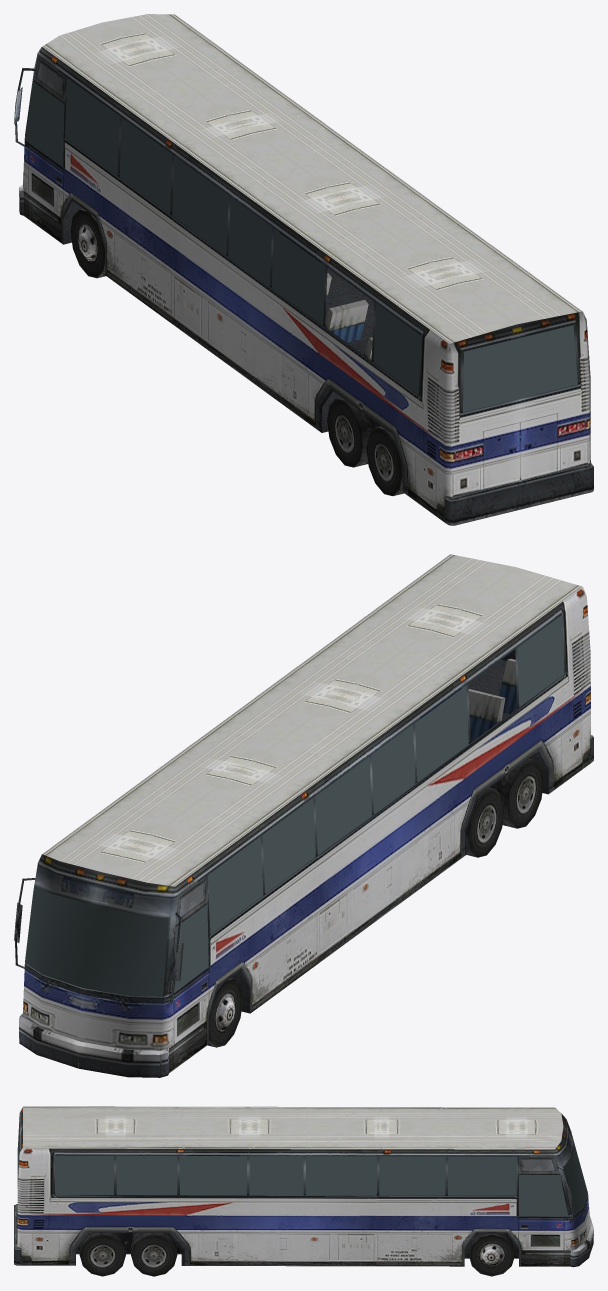
Rendered from p54_32_bus_coach_white.glb.
The picture shows the model from 3 angles, top to bottom: view 1: azimuth 30°, elevation 25°; view 2: azimuth 150°, elevation 25°; view 3: azimuth 270°, elevation 25°; orthographic projection. The views are drawn at different scales.
Visible parts, largest first — view 1: Body, Glass; view 2: Body, Glass; view 3: Body, Glass.
Part boxes in pixels (x1,y1,x2,y2): Body: (14, 14, 593, 525); Glass: (25, 78, 577, 412); Body: (14, 554, 593, 1077); Glass: (25, 615, 564, 996); Body: (14, 1106, 593, 1276); Glass: (17, 1119, 587, 1216).
Bounding box in the file's own units: 2.65 × 3.02 × 12.26.
Materials: 2 (2 with a texture image).
